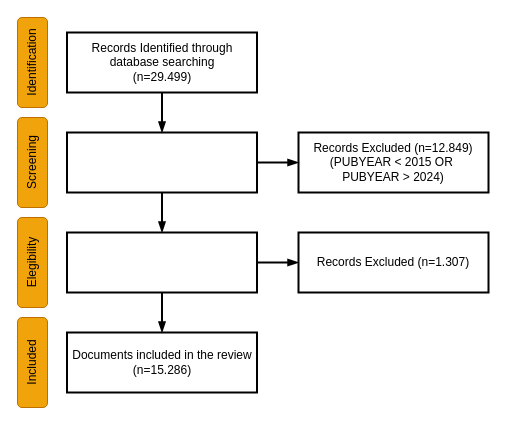
Image size: 507x425. Some labels were removed from this diagram. The shapes that lost their labels are listed below. From the top down, each one's centre as x and y in pixels, then its label:
At point 162,162: "Records Screened (n=29.499)".
At point 162,262: "Documents assessed for eligibility (n=16.603)".
